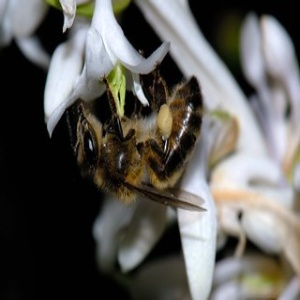bee: (58, 60, 212, 216)
